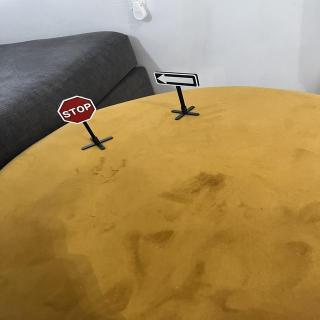sign_oneway_left: (153, 71, 202, 91)
sign_stop: (58, 95, 99, 126)
